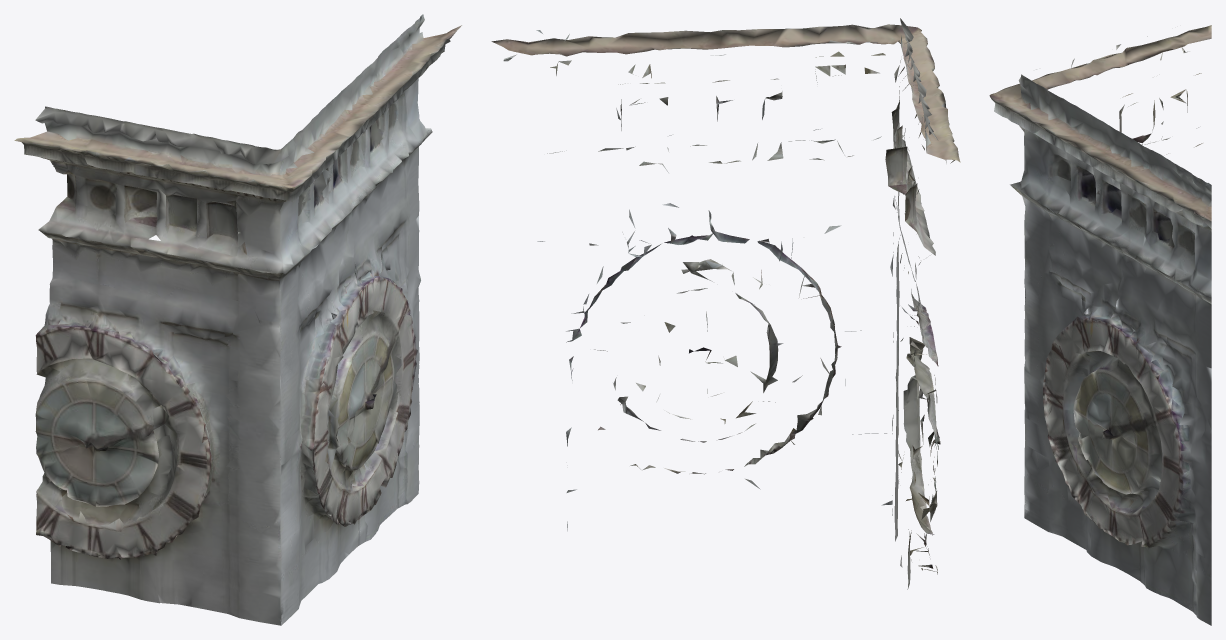
3 views of the same model, side by side, from view 1: azimuth 30°, elevation 25°; view 2: azimuth 150°, elevation 25°; view 3: azimuth 270°, elevation 25° (orthographic). The views are drawn at different scales.
Size of the model in its own units: 13.84 by 14.11 by 6.41.
1 material, 1 textured.
